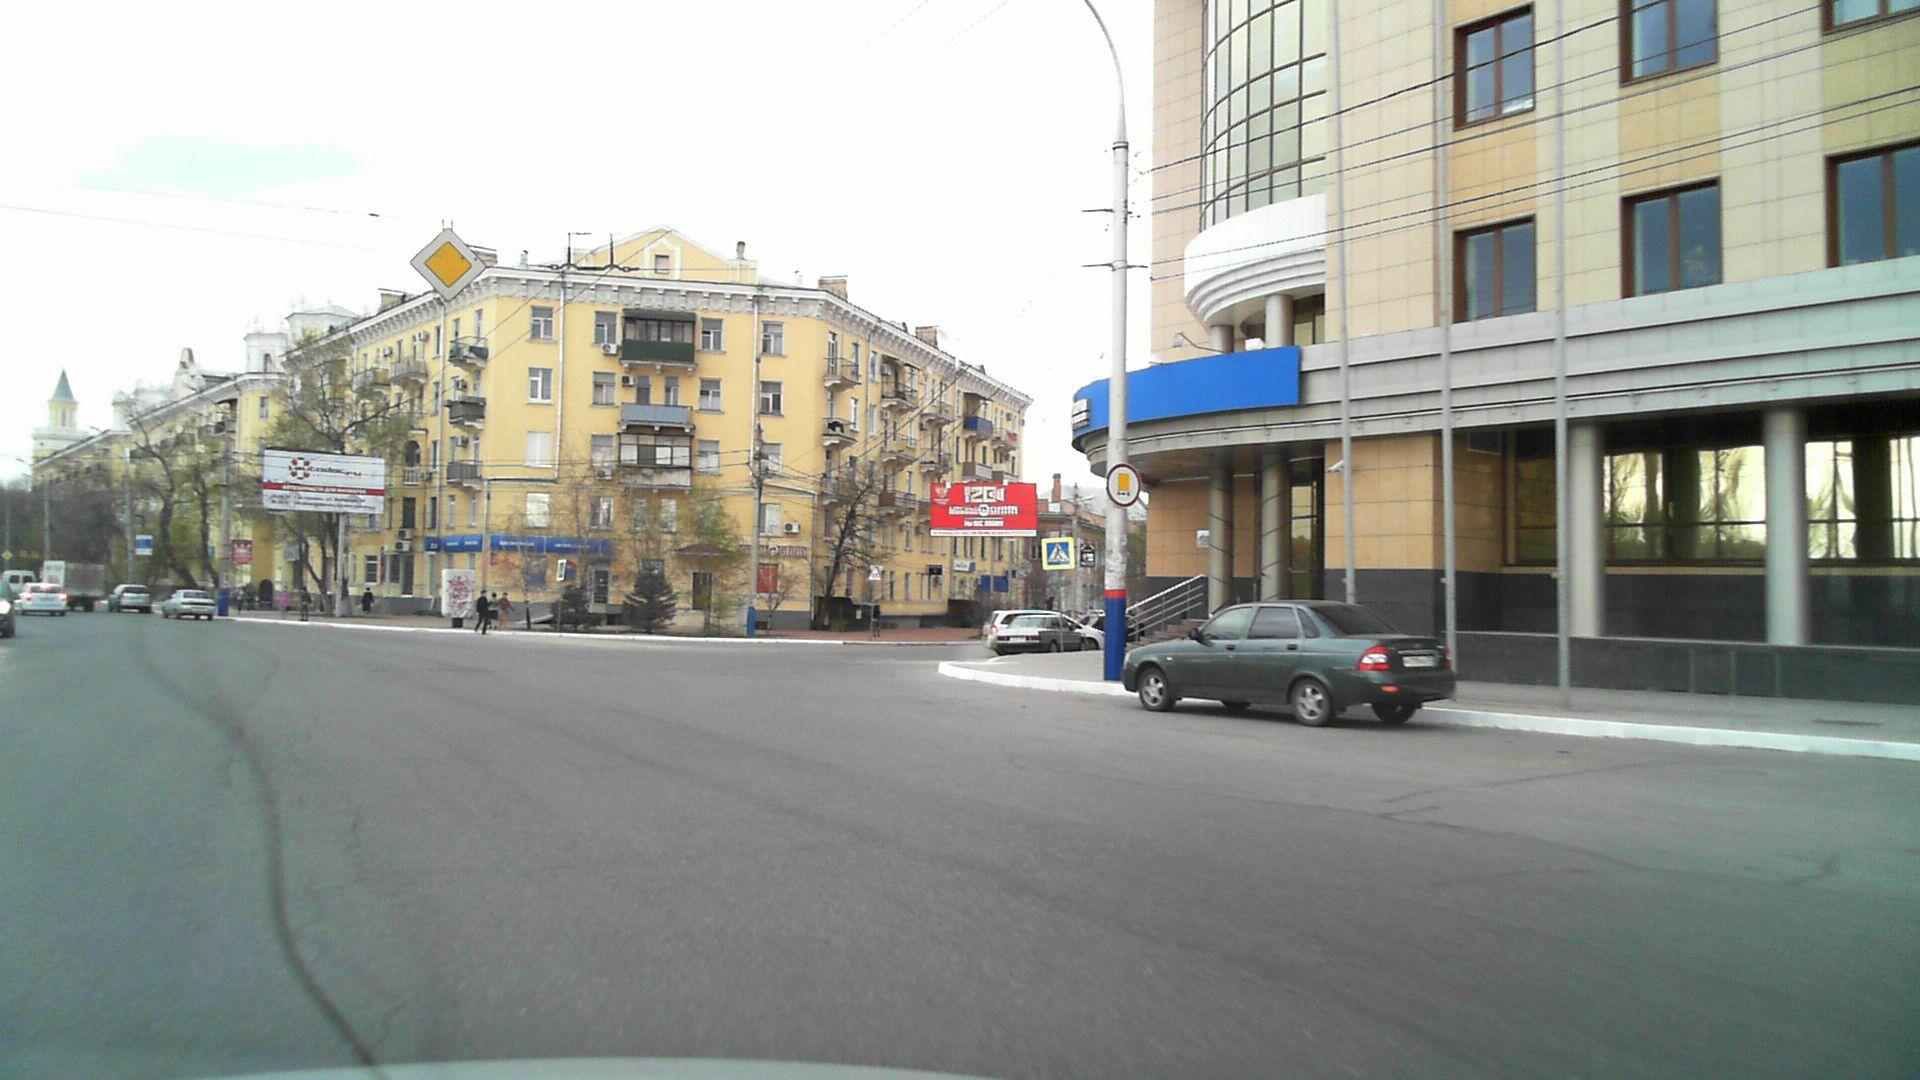2_1: (409, 224, 486, 299)
3_32: (1103, 461, 1143, 510)
5_19_1: (1043, 538, 1075, 568)
5_19_2: (557, 561, 568, 584)
